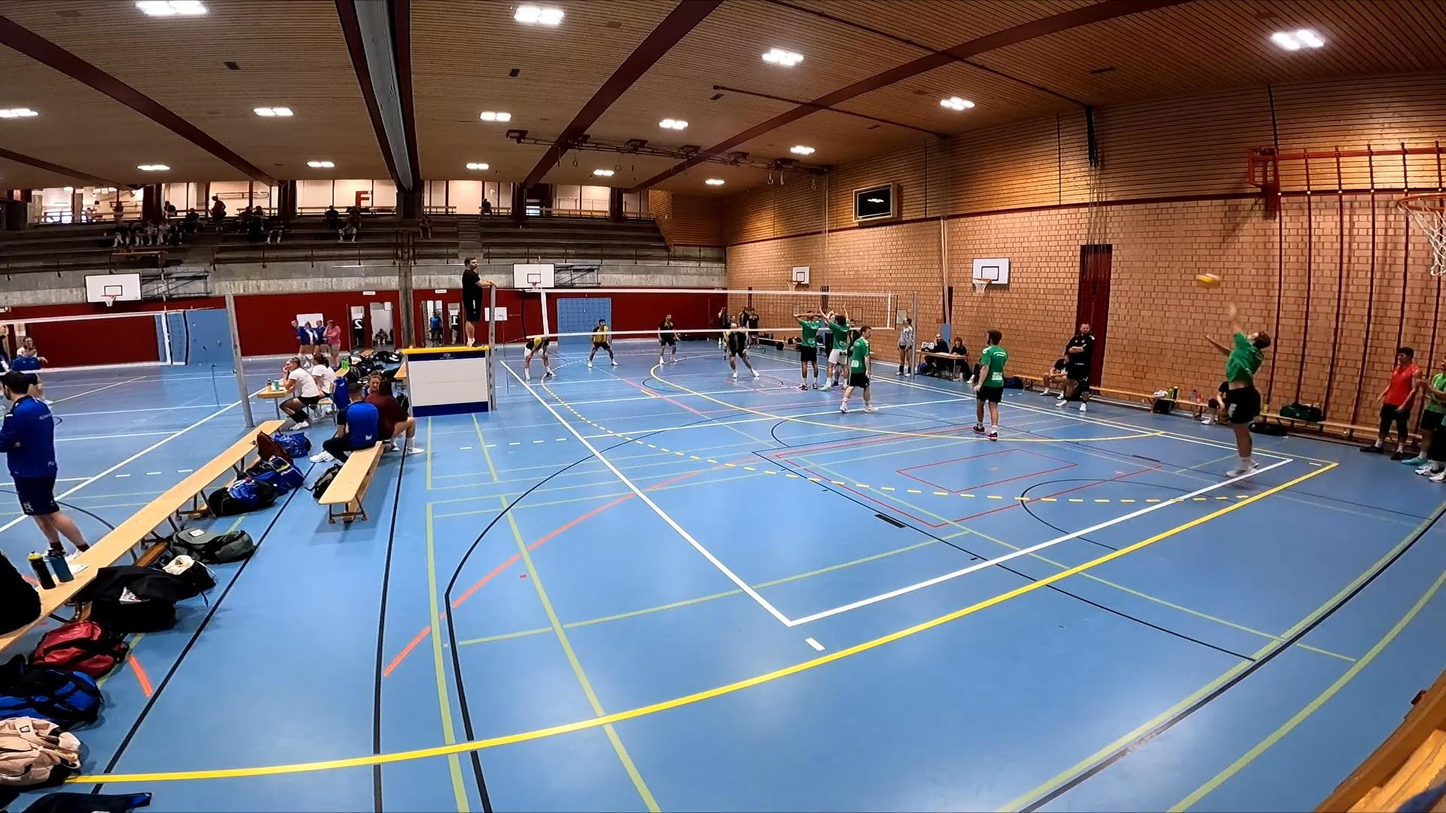Player: (973, 329, 1007, 440), (839, 325, 876, 413), (822, 309, 850, 389), (794, 312, 822, 390), (725, 321, 758, 377), (587, 318, 617, 367), (524, 335, 554, 380), (896, 317, 914, 376), (658, 314, 676, 364)
Serve: (1220, 304, 1276, 483)
ball: (1195, 274, 1221, 286)
